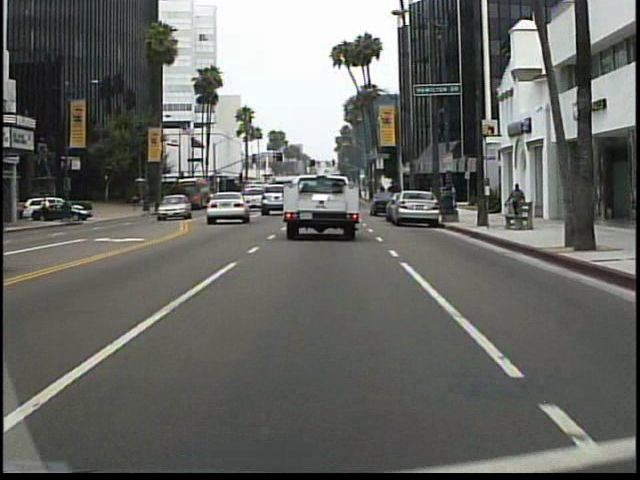person: (504, 181, 527, 225), (131, 190, 142, 216)
